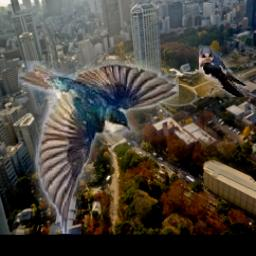Swallow: (18, 62, 179, 235), (199, 47, 248, 98)
